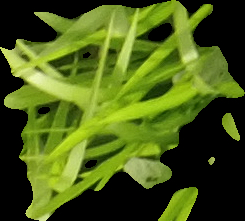grass: (1, 1, 244, 220)
